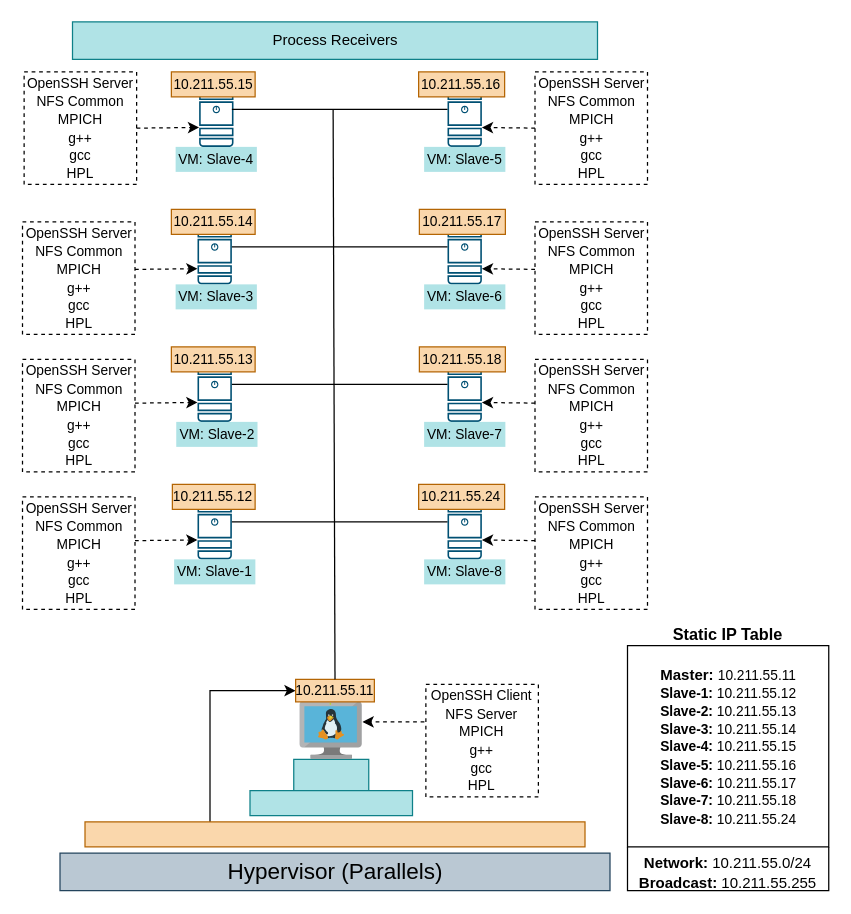
This 851x914 diagram has some shape labels left out. The centre of each missing label's shape, as x and y in pixels:
Process Sender: (330,802)
VM Network Services Driver: (334,834)
VM: Master: (330,777)
